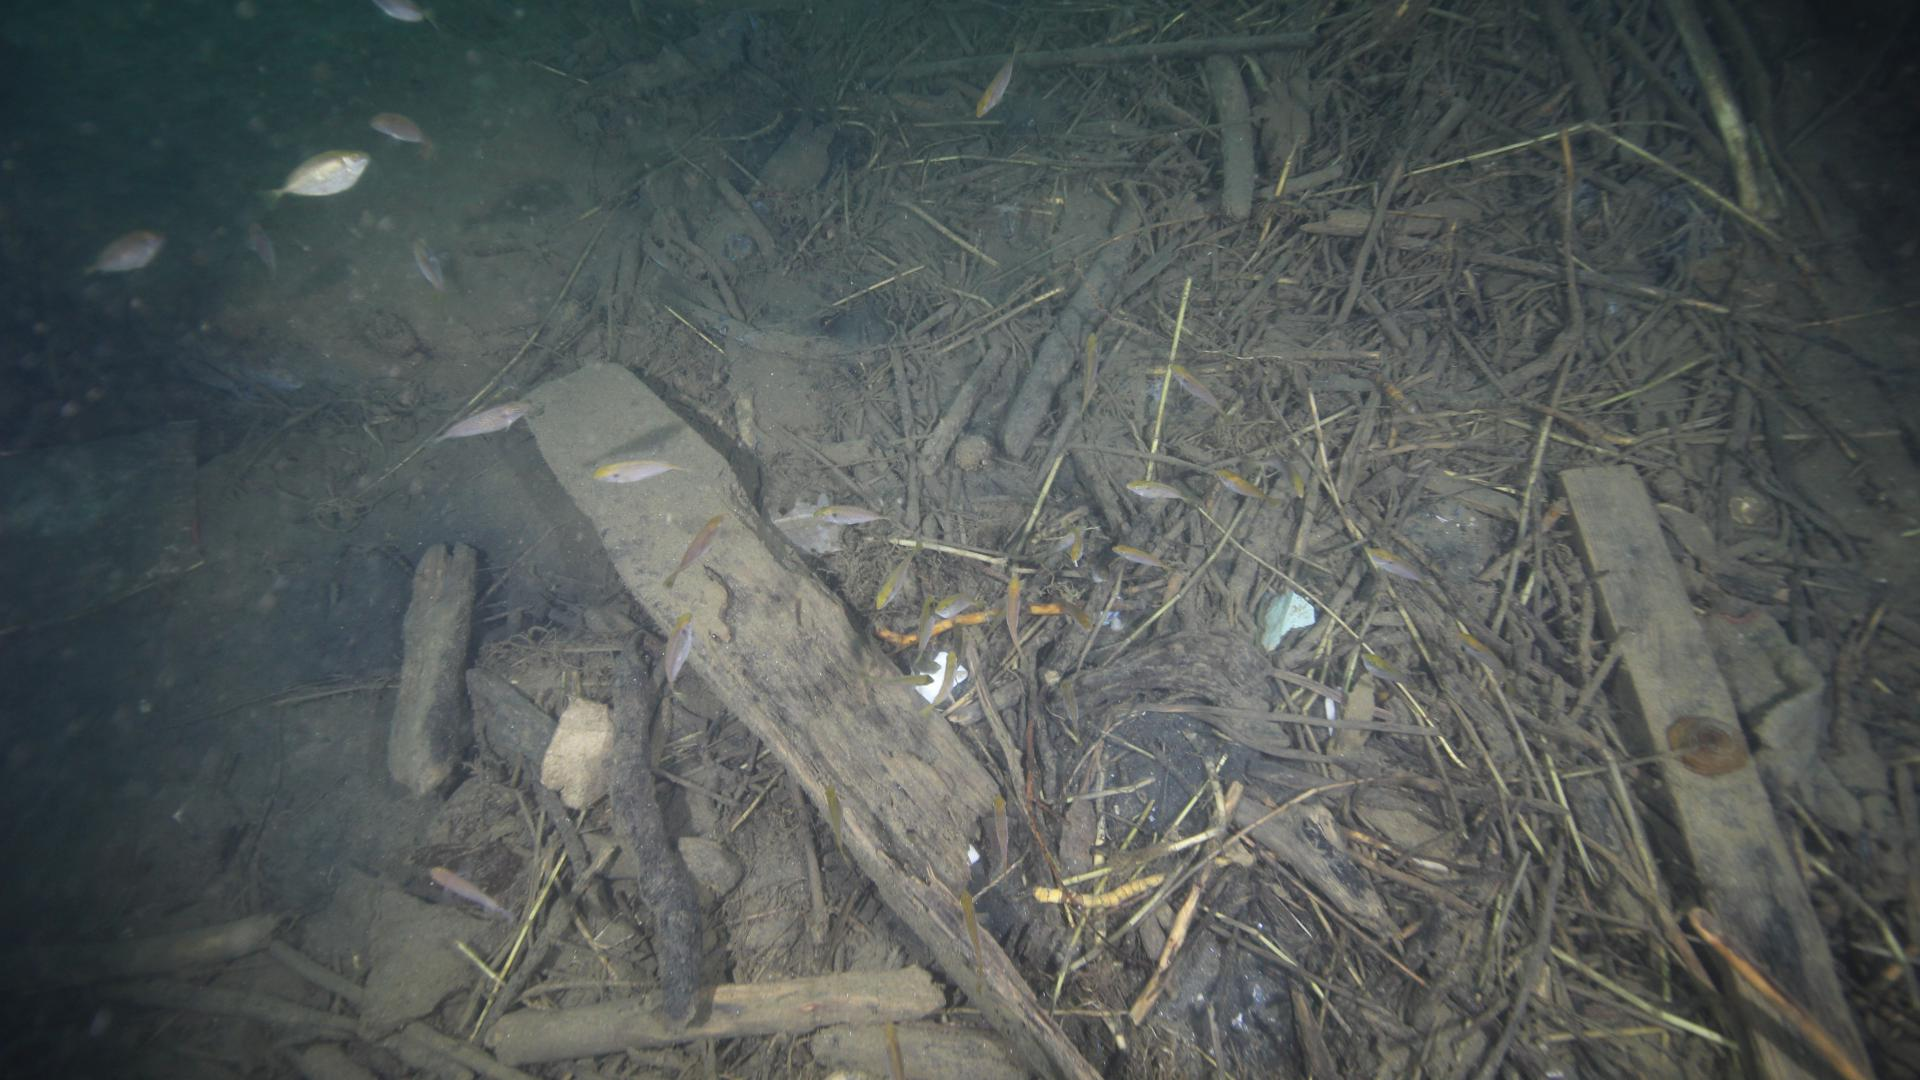wood: (525, 361, 1102, 1080), (1557, 462, 1874, 1080), (487, 965, 943, 1067), (384, 545, 477, 791)
